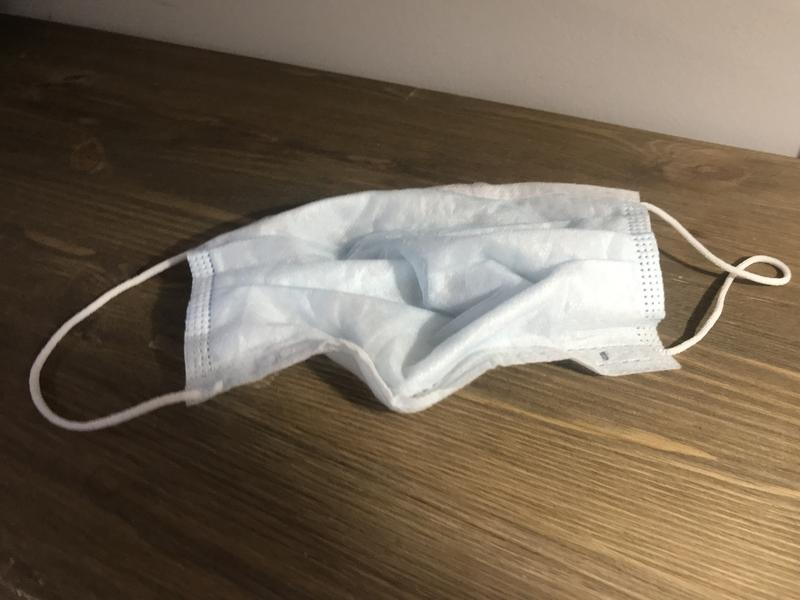medical_mask: (30, 181, 790, 434)
